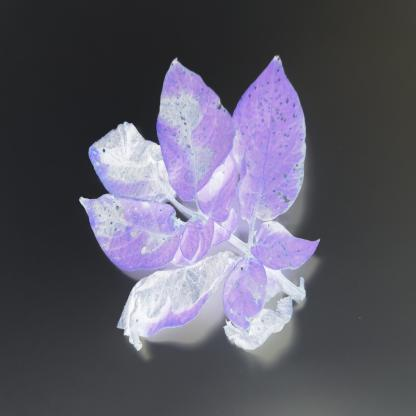Potato leaf late blight: (102, 250, 246, 350), (228, 55, 306, 222), (74, 188, 210, 274), (156, 58, 231, 200), (84, 118, 180, 206)
